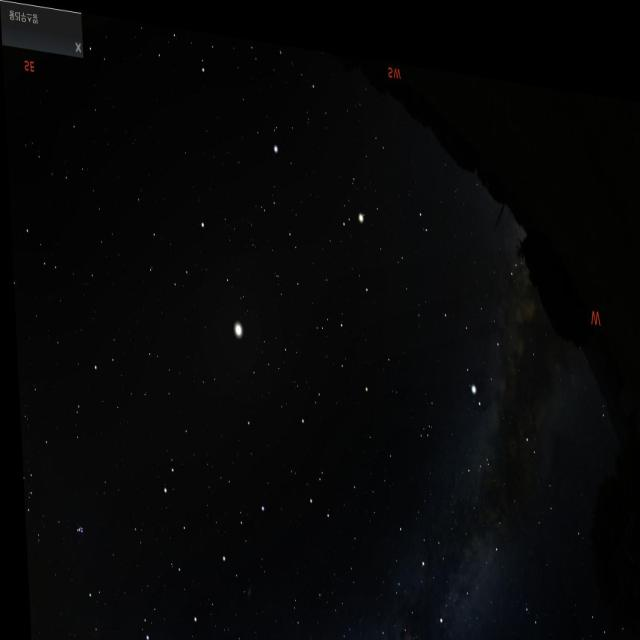aquila: (435, 235, 531, 401)
cygnus: (401, 508, 502, 640)
lyra: (511, 595, 544, 640)
pleiades: (69, 513, 82, 539)
taurus: (17, 422, 83, 558)
